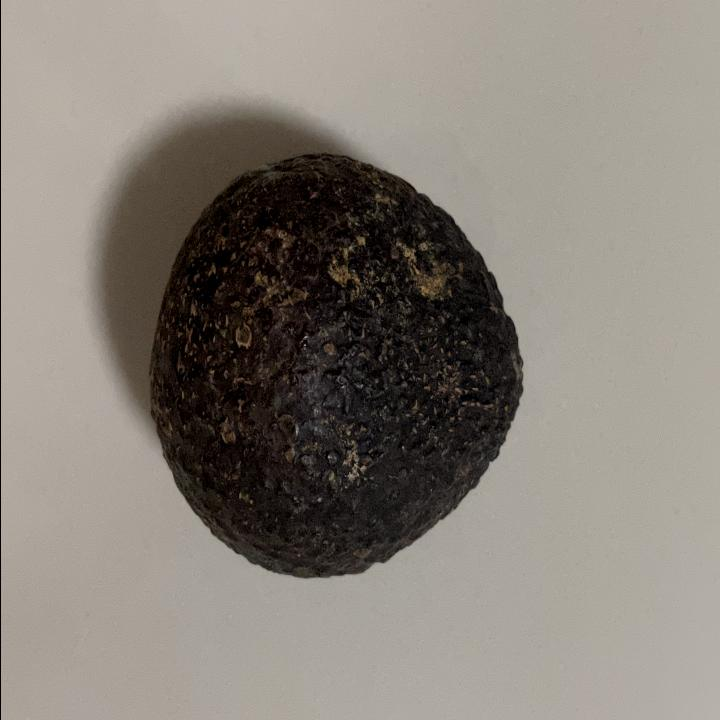Level3: (140, 142, 532, 592)
